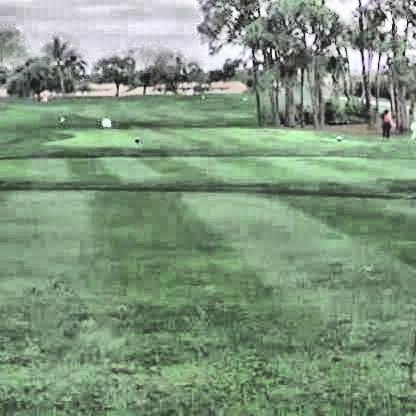golfball: (99, 117, 109, 127)
